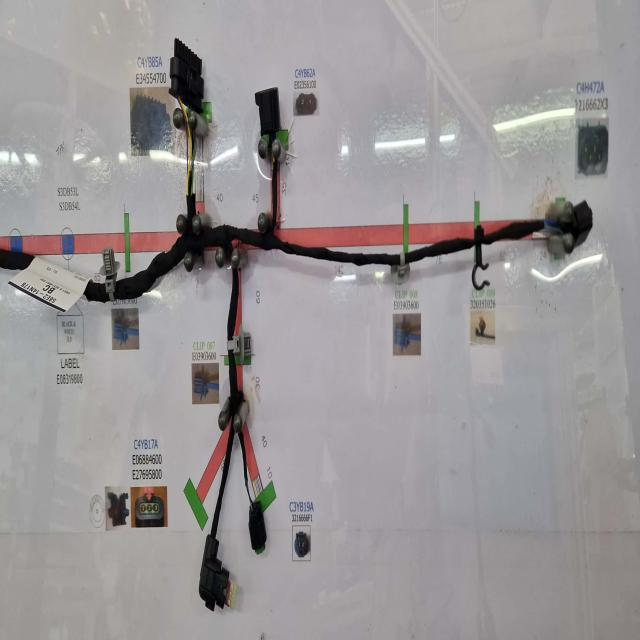Clip: (471, 224, 488, 289), (99, 249, 119, 303), (221, 318, 245, 359), (393, 249, 412, 280)
Connector: (169, 36, 203, 112), (198, 539, 228, 612), (255, 87, 281, 138), (246, 502, 265, 556), (572, 199, 592, 242)
Gape: (180, 101, 201, 196), (544, 211, 570, 236), (242, 482, 254, 509)
Info: (9, 256, 86, 313)
MHEV_N11_Cable: (81, 162, 538, 537)
